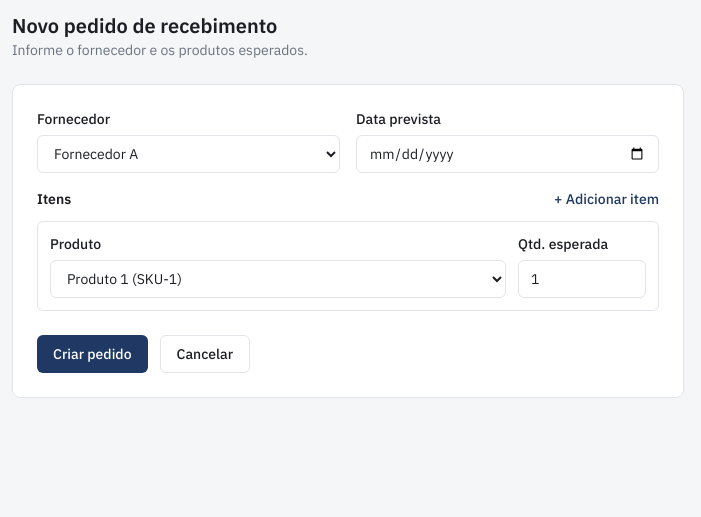
Test: PedidoRecebimentoFormPage › 'Remover' some quando resta só um item, e some a linha corretamente
The width and height of the screenshot is (701, 517).
Expected: the number of dropdowns labelled "Produto" is 1, [50, 260, 506, 298]
Expected: the button "Remover" is not shown
Click the button "+ Adicionar item" at (606, 199), box [554, 189, 659, 209]
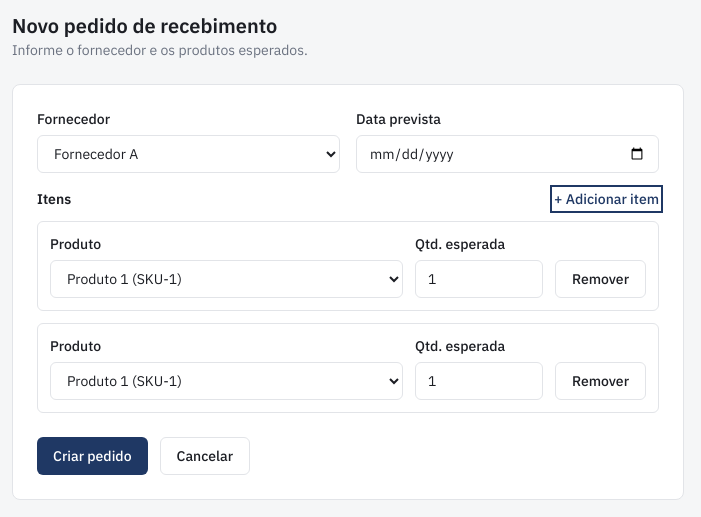
Expected: the number of dropdowns labelled "Produto" is 2, [50, 260, 403, 298]; [50, 362, 403, 400]
Click the 1st button "Remover" at (600, 279), box [555, 260, 646, 298]
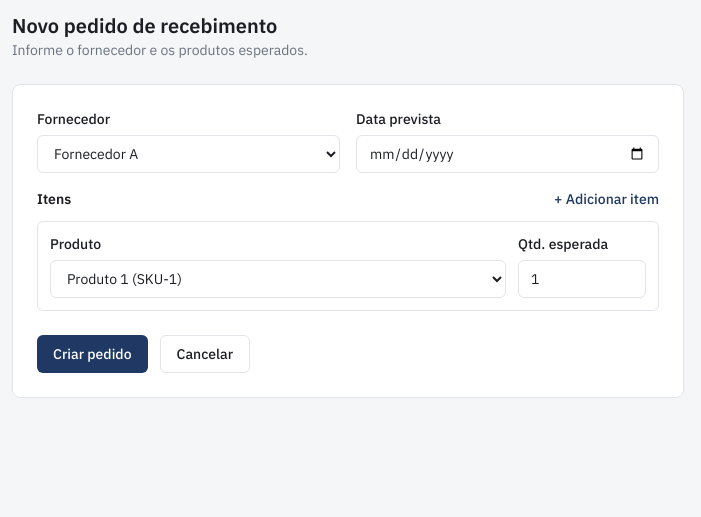
Expected: the number of dropdowns labelled "Produto" is 1, [50, 260, 506, 298]
Now the button "Remover" is gone
